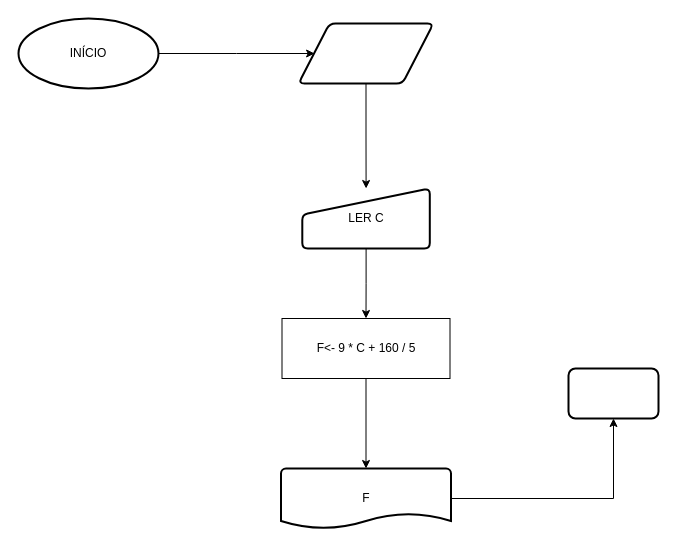
Image size: 676x546. Some labels were removed from this diagram. Here are the shapes that lost their labels. From the top down, the centre of each, then its label:
the point at 365,53: C, F
the point at 613,393: FIM
